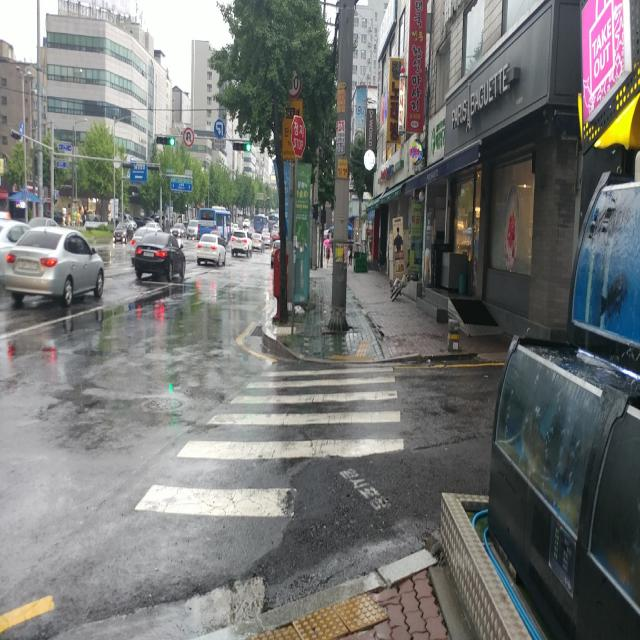횡단보도: (133, 363, 405, 519)
